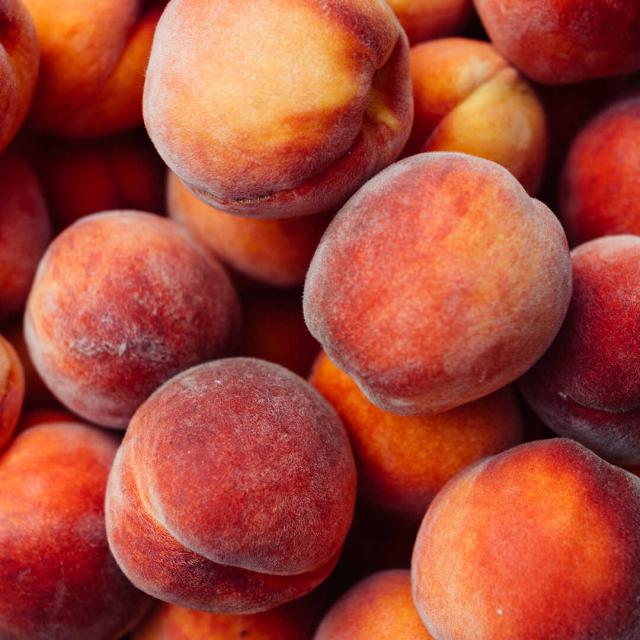peach: (302, 152, 572, 415), (104, 356, 361, 618), (140, 0, 414, 223), (409, 439, 640, 640)
